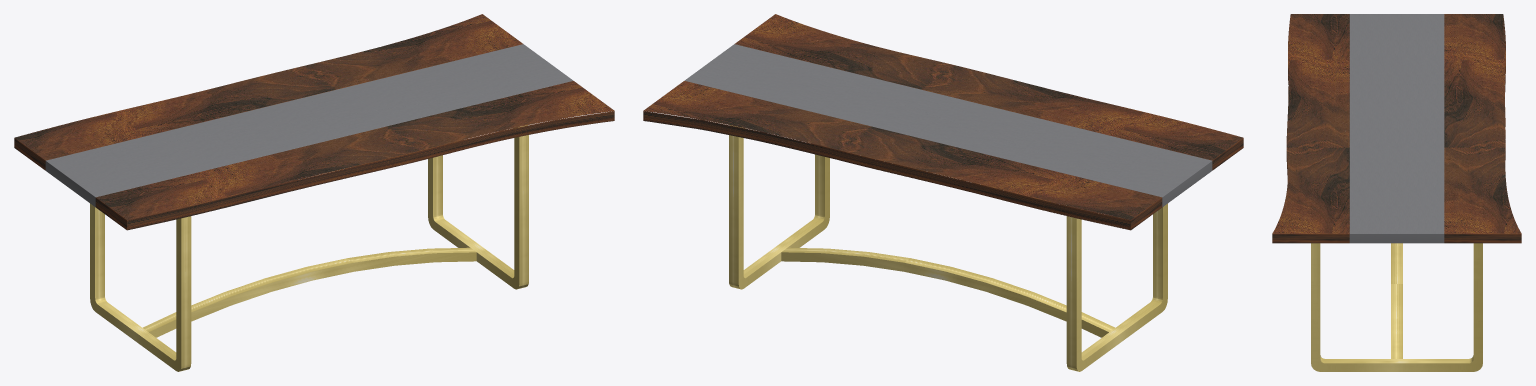
The model's file is vessinna.gltf.
3 views of the same model, side by side, from view 1: azimuth 30°, elevation 25°; view 2: azimuth 150°, elevation 25°; view 3: azimuth 270°, elevation 25° (orthographic). The views are drawn at different scales.
Parts seen in each view (by area): view 1: mesh_2; view 2: mesh_2; view 3: mesh_2.
Boxes of the visible parts, bbox=[...] form: mesh_2: bbox=[14, 14, 614, 371]; mesh_2: bbox=[643, 14, 1243, 371]; mesh_2: bbox=[1272, 14, 1521, 371].
Bounding box in the file's own units: 220 × 78.5 × 105.
4 materials, 4 textured.
